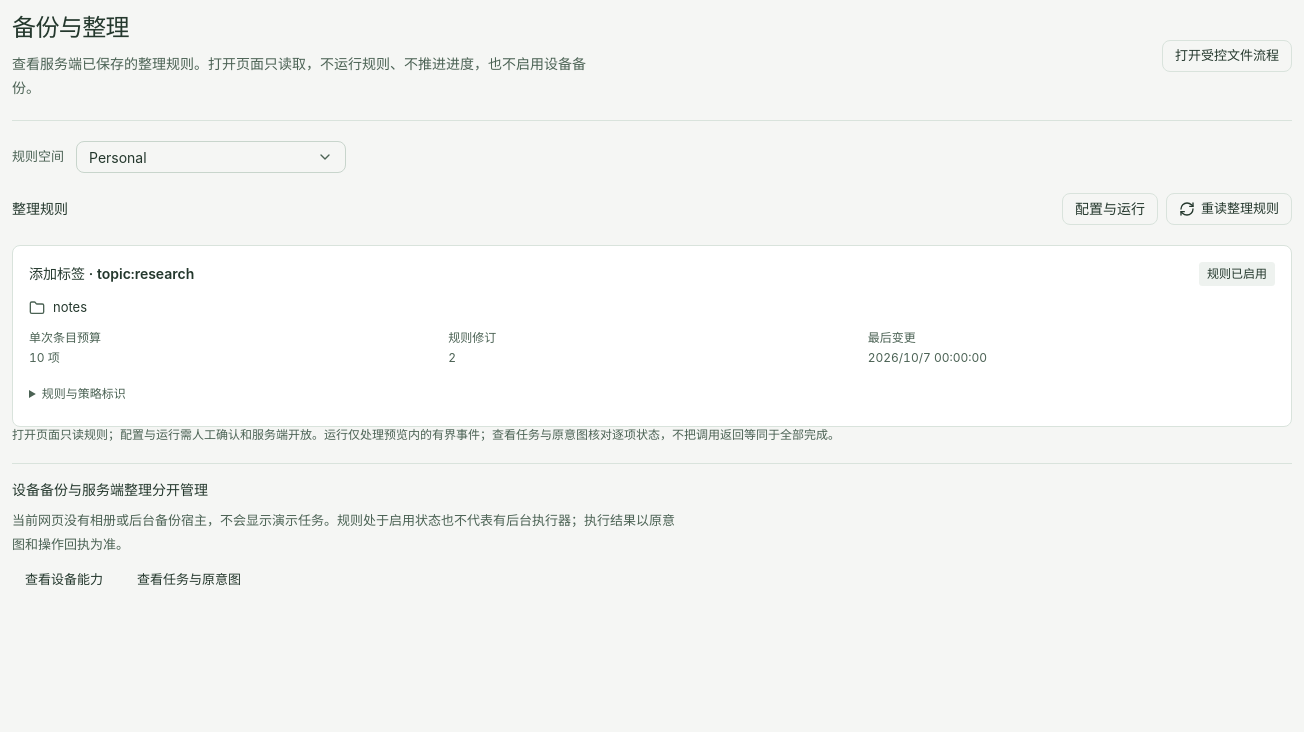
Test case: only opens management after explicit capability read (true)
Expected: the heading "添加标签 · topic:research" is shown, [29,265,194,282]
Expected: the button "新建规则/恢复" is not shown
Step 1. Click the button "配置与运行" → click(1110, 209), box [1062,193,1158,225]
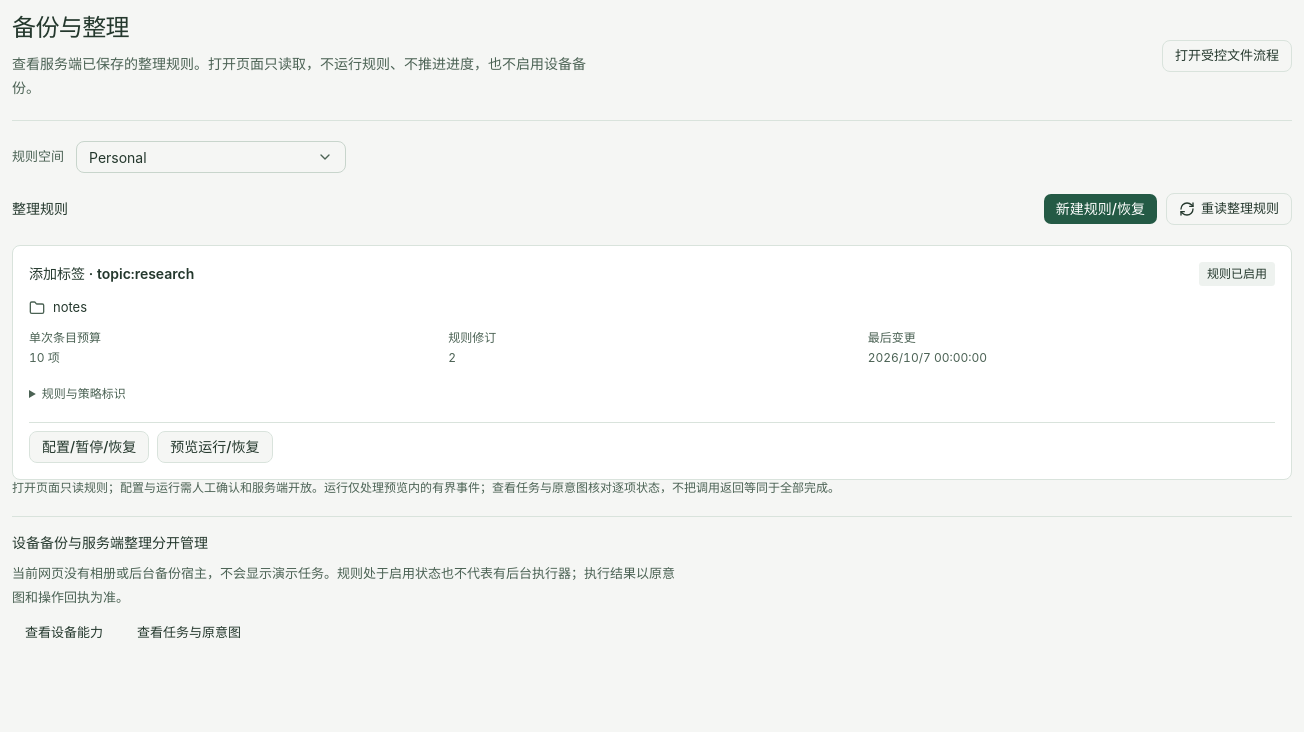
Expected: the button "新建规则/恢复" is shown, [1043,193,1158,225]
